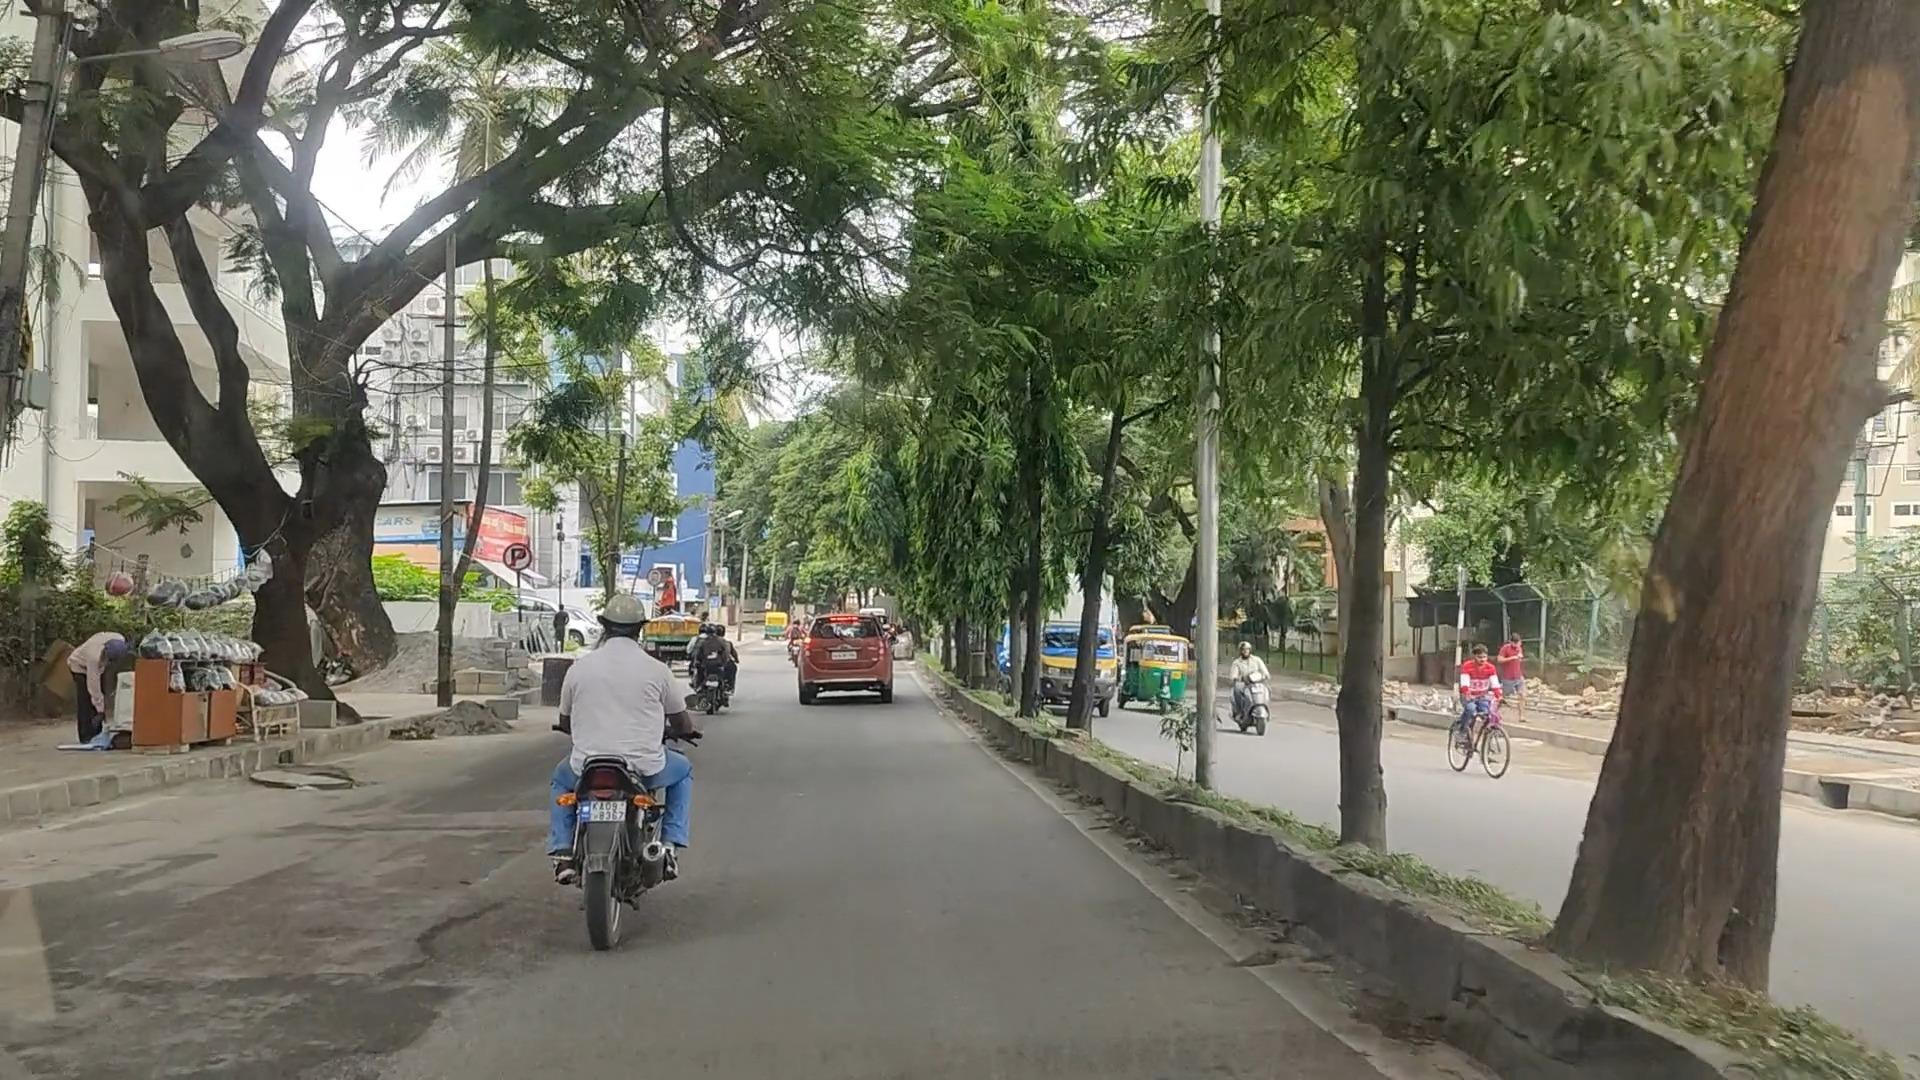LMV: (580, 600, 670, 965), (804, 611, 890, 708)
RoadDamages: (349, 893, 527, 1055), (245, 753, 360, 818)
